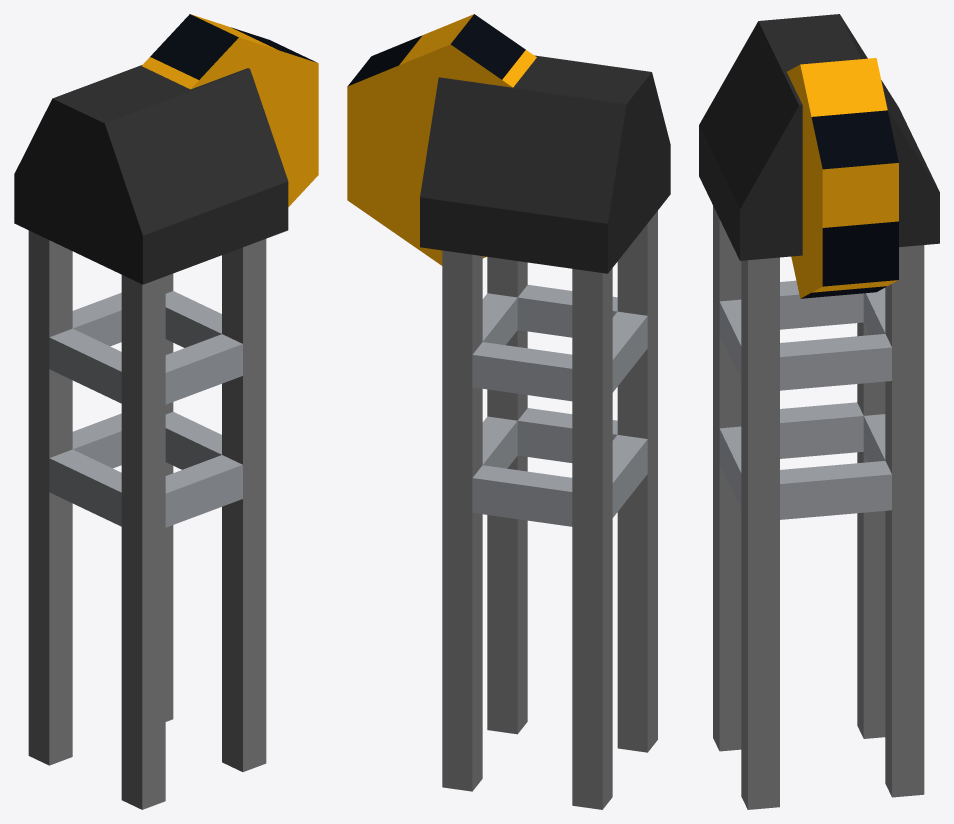
File: Border_14_exploring.fbx
The picture shows the model from 3 angles, left to right: view 1: azimuth 30°, elevation 25°; view 2: azimuth 150°, elevation 25°; view 3: azimuth 270°, elevation 25°; orthographic projection. The views are drawn at different scales.
Parts seen in each view (by area): view 1: Cube.030, Cylinder.014; view 2: Cube.030, Cylinder.014; view 3: Cube.030, Cylinder.014.
Boxes of the visible parts, <box> form: Cube.030: <box>14,65,288,809</box>; Cylinder.014: <box>142,14,318,206</box>; Cube.030: <box>420,55,670,809</box>; Cylinder.014: <box>347,14,536,265</box>; Cube.030: <box>699,14,939,809</box>; Cylinder.014: <box>787,58,898,298</box>.
Size of the model in its own units: 62.46 by 158 by 46.21.
